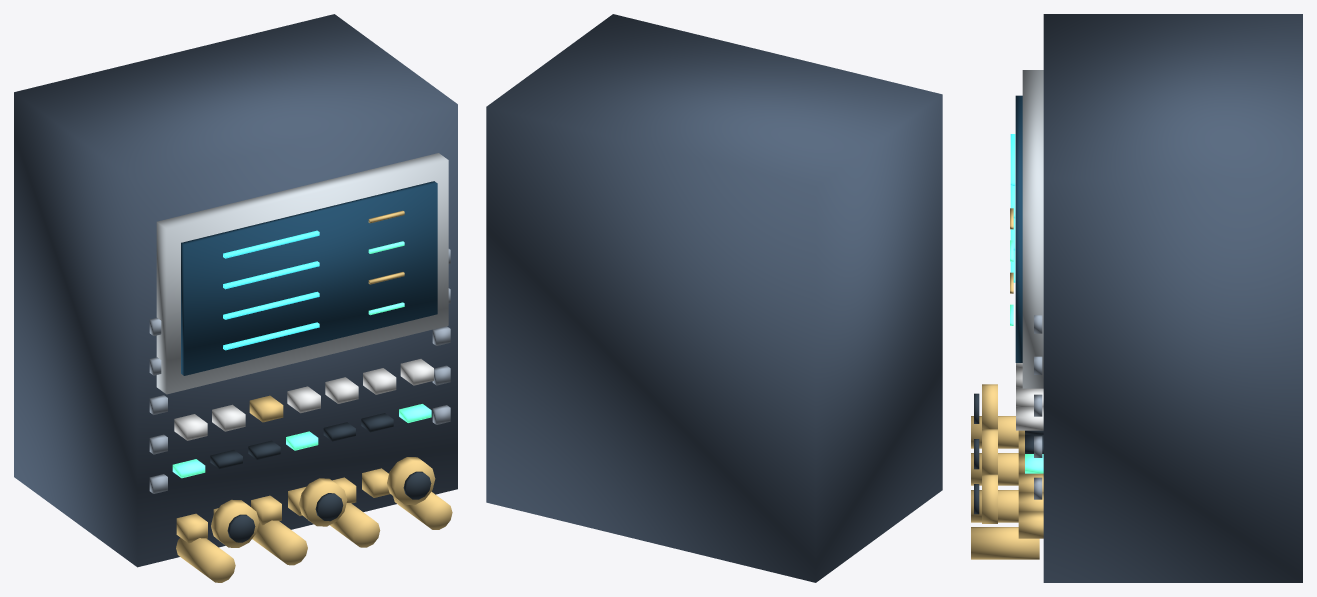
File: 61_L90_XenonPropellantInventoryAnalyzer.fbx
The picture shows the model from 3 angles, left to right: view 1: azimuth 30°, elevation 25°; view 2: azimuth 150°, elevation 25°; view 3: azimuth 270°, elevation 25°; orthographic projection. The views are drawn at different scales.
Parts seen in each view (by area): view 1: L90_XenonPropellantInventoryA_Part_0000, L90_XenonPropellantInventoryA_Part_0002, L90_XenonPropellantInventoryA_Part_0001, L90_XenonPropellantInventoryA_Part_0004, L90_XenonPropellantInventoryA_Part_0006, L90_XenonPropellantInventoryA_Part_0008, L90_XenonPropellantInventoryA_Part_0003, L90_XenonPropellantInventoryA_Part_0007, L90_XenonPropellantInventoryA_Part_0005, L90_XenonPropellantInventoryA_Part_0011, L90_XenonPropellantInventoryA_Part_0009, L90_XenonPropellantInventoryA_Part_0013 (+3 smaller); view 2: L90_XenonPropellantInventoryA_Part_0000; view 3: L90_XenonPropellantInventoryA_Part_0000, L90_XenonPropellantInventoryA_Part_0004, L90_XenonPropellantInventoryA_Part_0001, L90_XenonPropellantInventoryA_Part_0002, L90_XenonPropellantInventoryA_Part_0006, L90_XenonPropellantInventoryA_Part_0008, L90_XenonPropellantInventoryA_Part_0013, L90_XenonPropellantInventoryA_Part_0003, L90_XenonPropellantInventoryA_Part_0009, L90_XenonPropellantInventoryA_Part_0011, L90_XenonPropellantInventoryA_Part_0005.
Boxes of the visible parts, bbox=[...] form: L90_XenonPropellantInventoryA_Part_0000: bbox=[14, 14, 457, 567]; L90_XenonPropellantInventoryA_Part_0002: bbox=[181, 181, 437, 375]; L90_XenonPropellantInventoryA_Part_0001: bbox=[156, 153, 448, 394]; L90_XenonPropellantInventoryA_Part_0004: bbox=[176, 210, 452, 582]; L90_XenonPropellantInventoryA_Part_0006: bbox=[174, 359, 433, 440]; L90_XenonPropellantInventoryA_Part_0008: bbox=[149, 249, 450, 493]; L90_XenonPropellantInventoryA_Part_0003: bbox=[223, 230, 319, 350]; L90_XenonPropellantInventoryA_Part_0007: bbox=[210, 413, 393, 468]; L90_XenonPropellantInventoryA_Part_0005: bbox=[172, 241, 431, 478]; L90_XenonPropellantInventoryA_Part_0011: bbox=[299, 478, 347, 526]; L90_XenonPropellantInventoryA_Part_0009: bbox=[211, 499, 259, 547]; L90_XenonPropellantInventoryA_Part_0013: bbox=[387, 457, 435, 504]; L90_XenonPropellantInventoryA_Part_0000: bbox=[486, 14, 942, 582]; L90_XenonPropellantInventoryA_Part_0000: bbox=[1043, 14, 1302, 582]; L90_XenonPropellantInventoryA_Part_0004: bbox=[971, 208, 1043, 559]; L90_XenonPropellantInventoryA_Part_0001: bbox=[1022, 70, 1043, 388]; L90_XenonPropellantInventoryA_Part_0002: bbox=[1015, 95, 1022, 362]; L90_XenonPropellantInventoryA_Part_0006: bbox=[1016, 363, 1043, 430]; L90_XenonPropellantInventoryA_Part_0008: bbox=[1034, 315, 1042, 499]; L90_XenonPropellantInventoryA_Part_0013: bbox=[982, 474, 997, 523]; L90_XenonPropellantInventoryA_Part_0003: bbox=[1010, 134, 1015, 282]; L90_XenonPropellantInventoryA_Part_0009: bbox=[982, 384, 997, 429]; L90_XenonPropellantInventoryA_Part_0011: bbox=[982, 429, 997, 474]; L90_XenonPropellantInventoryA_Part_0005: bbox=[1010, 240, 1043, 473].
Bounding box in the file's own units: 1.02 × 1.18 × 0.87.
